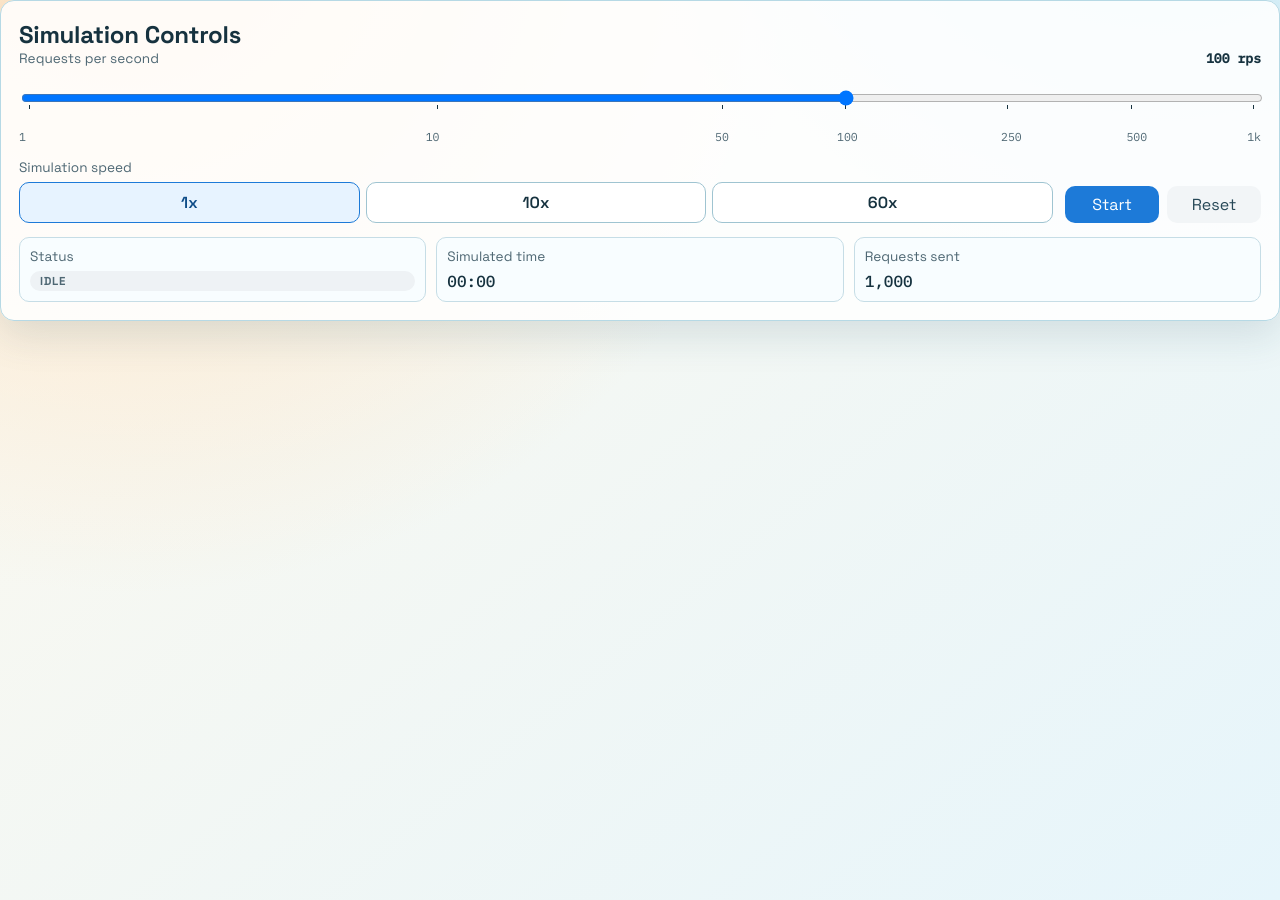
Test case: ControlsPanel › updates state through start, pause, and reset actions
Expected: the text "IDLE" is shown, [30, 271, 415, 291]
What coordinates should you click on to do the following:
click the button "Start"
I would click on:
 (1112, 204)
Its box is [1065, 186, 1159, 223].
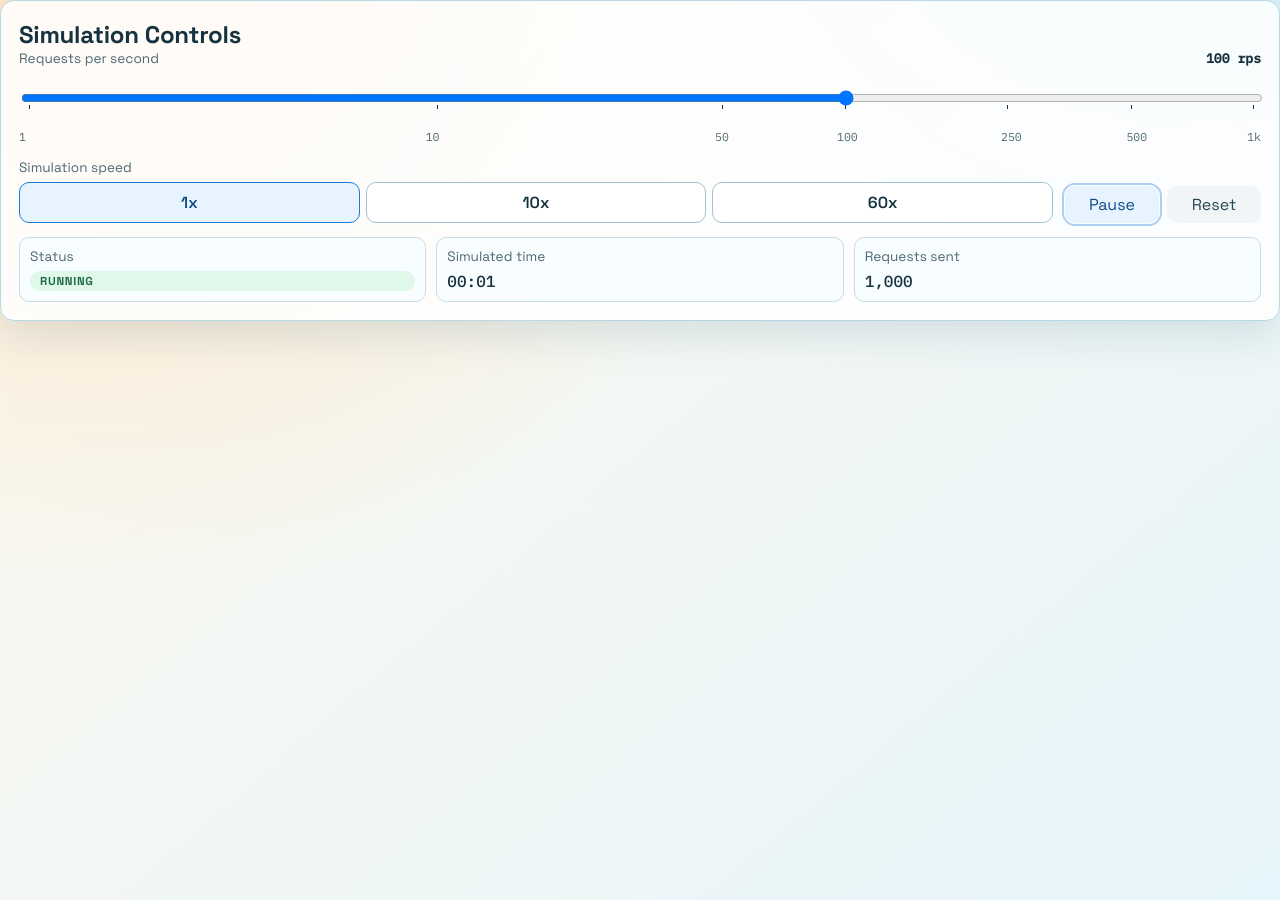
Expected: the text "RUNNING" is shown, [30, 271, 415, 291]
Expected: the text "00:01" is shown, [447, 271, 495, 291]
What coordinates should you click on to do the following:
click the button "Pause"
I would click on:
 (1112, 204)
Its box is [1065, 186, 1159, 223].
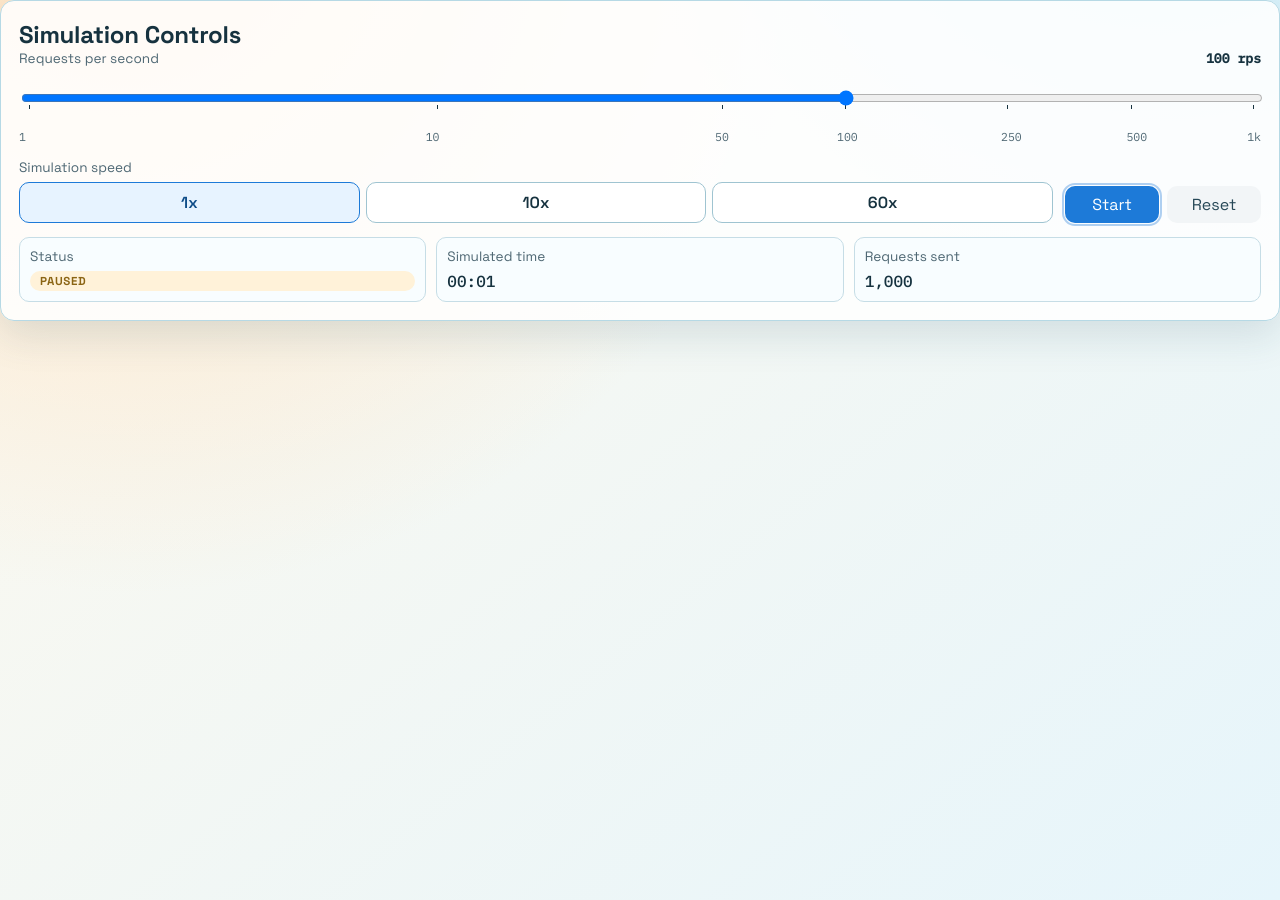
Expected: the text "PAUSED" is shown, [30, 271, 415, 291]
What coordinates should you click on to do the following:
click the button "Reset"
I would click on:
 (1214, 204)
Its box is [1167, 186, 1261, 223].
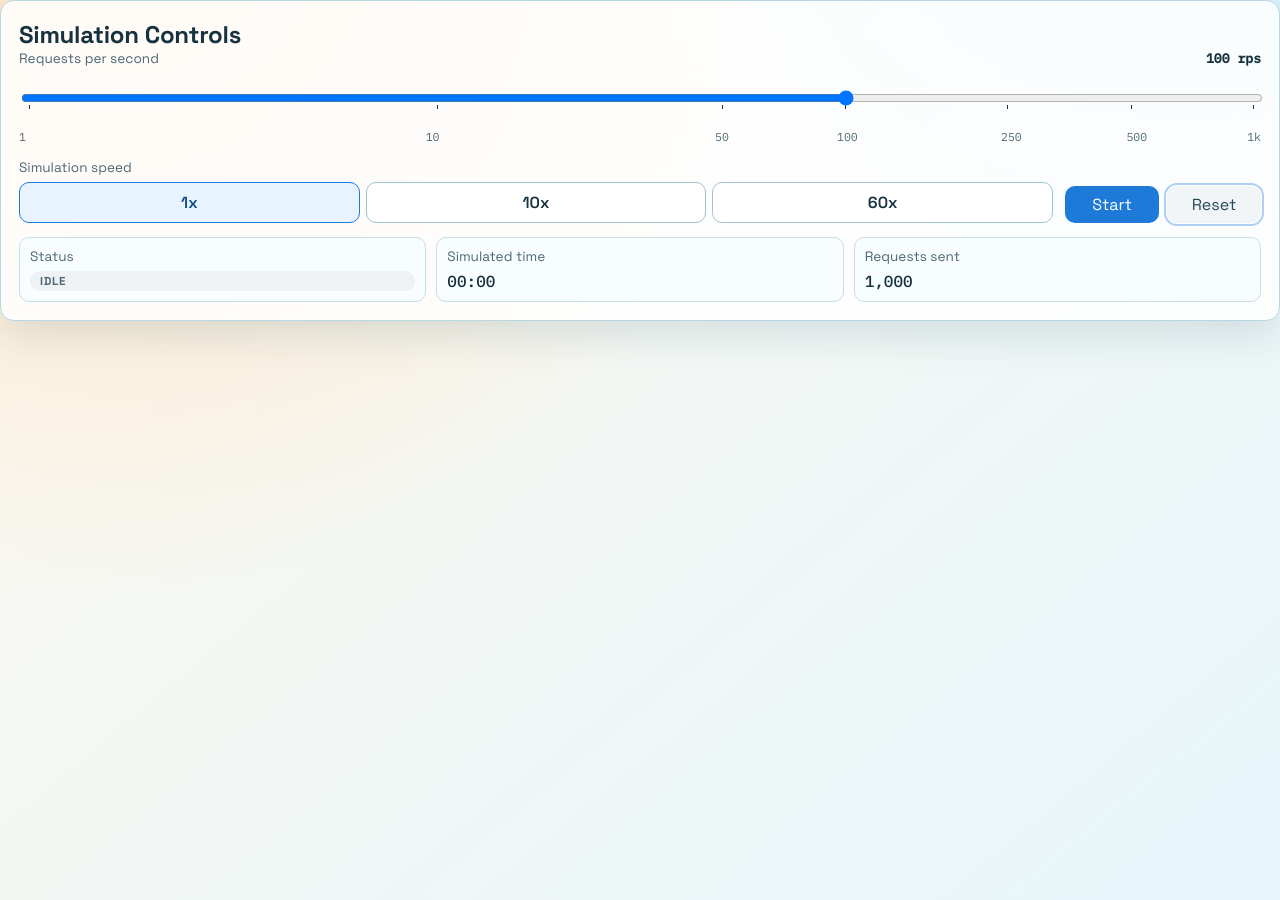
Expected: the text "IDLE" is shown, [30, 271, 415, 291]
Expected: the text "00:00" is shown, [447, 271, 495, 291]
